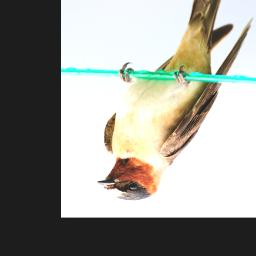Swallow: (96, 0, 254, 201)
